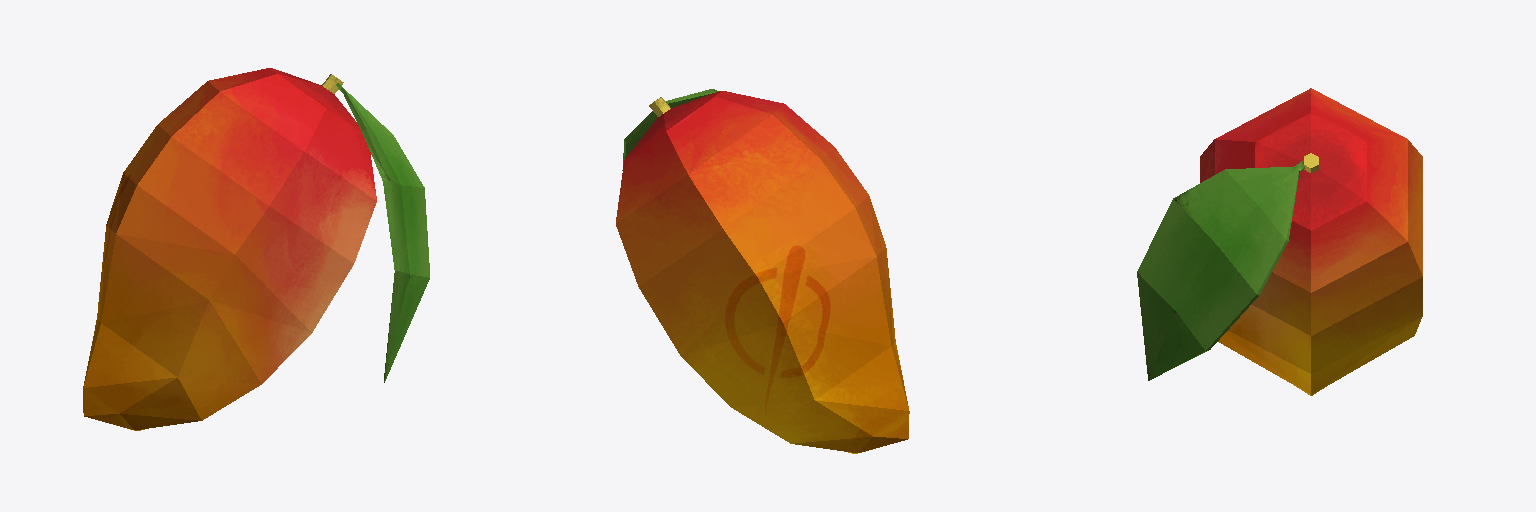
3 views of the same model, side by side, from view 1: azimuth 30°, elevation 25°; view 2: azimuth 150°, elevation 25°; view 3: azimuth 270°, elevation 25° (orthographic).
Parts seen in each view (by area): view 1: mango; view 2: mango; view 3: mango.
Boxes of the visible parts, x1=… form: mango: x1=83, y1=68, x2=429, y2=430; mango: x1=616, y1=89, x2=909, y2=453; mango: x1=1137, y1=88, x2=1422, y2=395.
Size of the model in its own units: 45.84 by 45.06 by 36.14.
Materials: 1 (1 with a texture image).